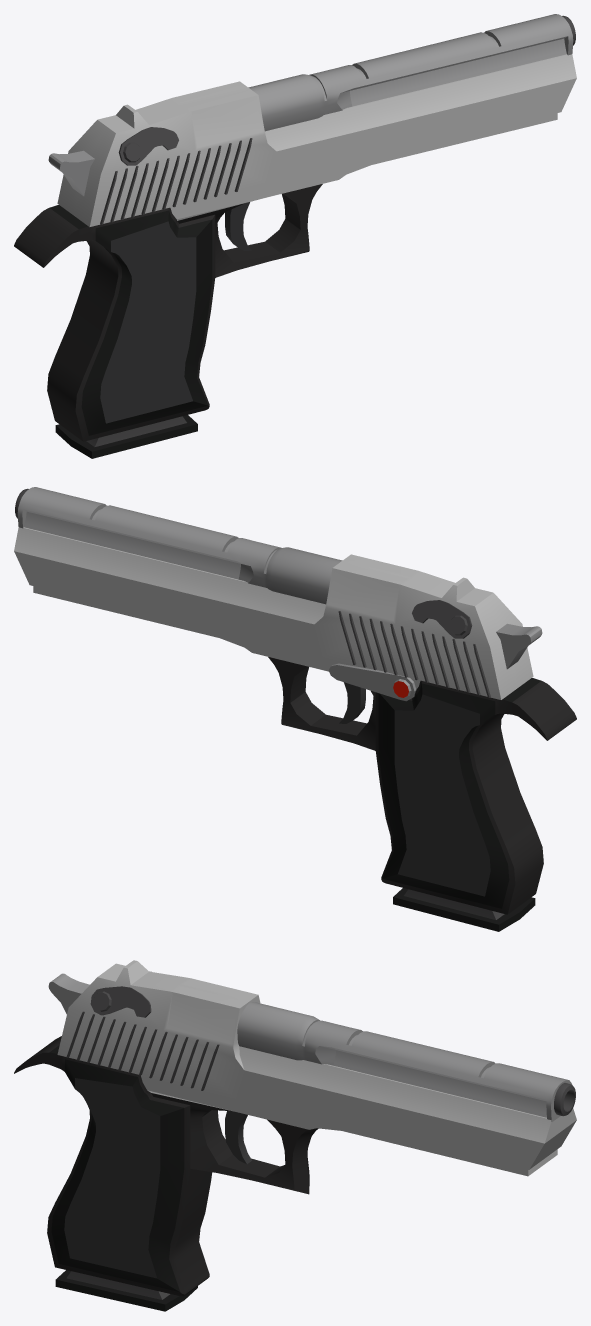
The model's file is Desert_Eagle_Mesh.fbx.
The picture shows the model from 3 angles, top to bottom: view 1: azimuth 30°, elevation 25°; view 2: azimuth 150°, elevation 25°; view 3: azimuth 330°, elevation 25°; orthographic projection.
Parts seen in each view (by area): view 1: Desert_Eagle; view 2: Desert_Eagle; view 3: Desert_Eagle.
Boxes of the visible parts, box(x1,y1,x2,y2) form: Desert_Eagle: box(14, 14, 576, 458); Desert_Eagle: box(14, 487, 576, 931); Desert_Eagle: box(14, 960, 576, 1311).
Bounding box in the file's own units: 0.273 × 0.156 × 0.0318.
